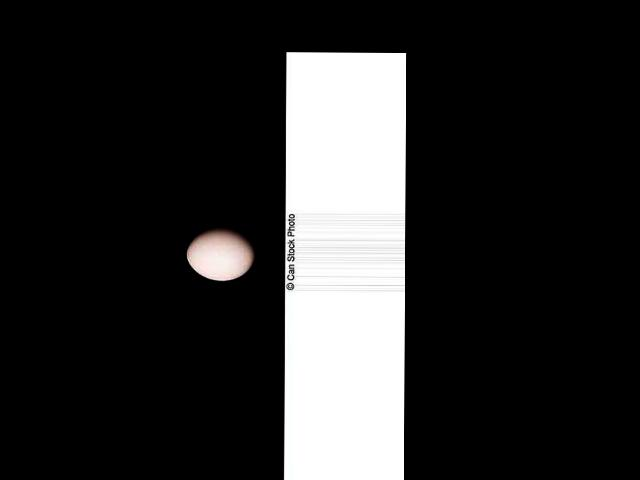egg: (186, 227, 256, 280)
